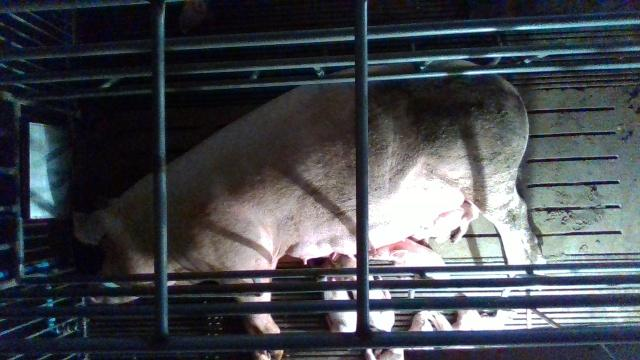piglet: (332, 252, 395, 332), (364, 311, 433, 360), (315, 256, 358, 332), (373, 238, 449, 280), (412, 202, 481, 243)
sow-sleep-lactate: (67, 57, 547, 360)
